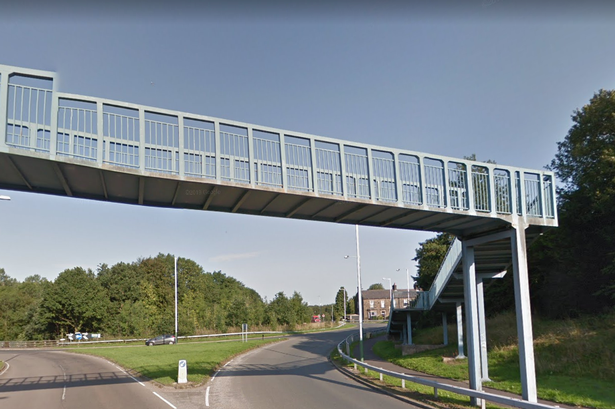bridge: (5, 61, 559, 401)
